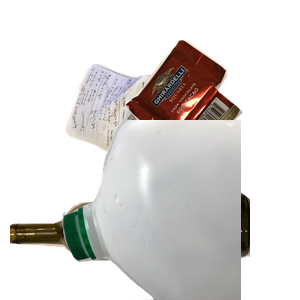glass: (10, 189, 250, 300)
paper: (63, 61, 242, 206)
plastic: (60, 120, 300, 300)
trash: (123, 37, 300, 192)
